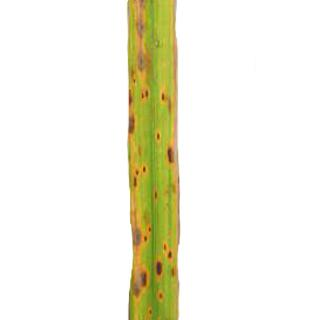bercak-Cokelat: (124, 90, 141, 139), (132, 266, 147, 302), (129, 162, 149, 185), (160, 242, 178, 261), (165, 143, 180, 163), (136, 88, 152, 106), (151, 126, 167, 141), (159, 88, 169, 106), (151, 188, 164, 201), (155, 261, 165, 276), (169, 267, 181, 278), (130, 77, 141, 87), (146, 222, 154, 234), (156, 289, 163, 302), (142, 234, 150, 244)
